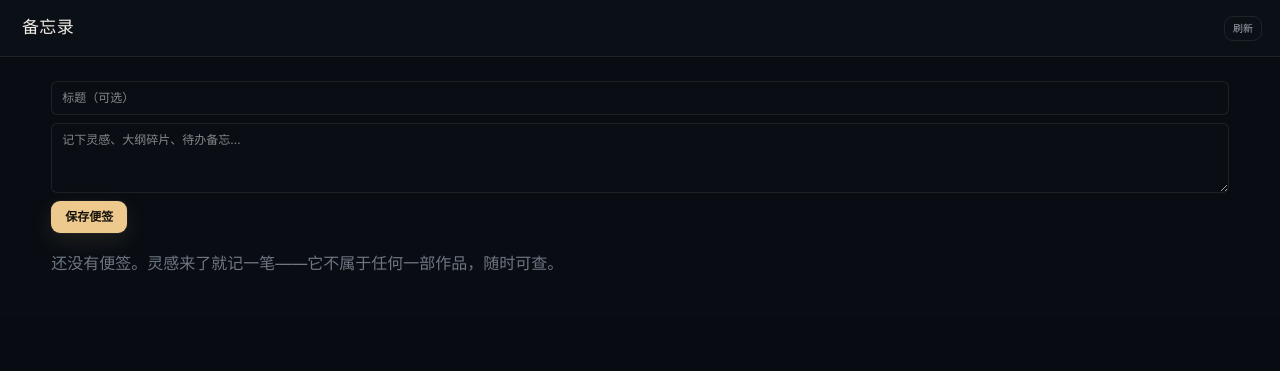
Test case: MemoView（备忘录） › 新建便签：空内容前端拦截；成功后刷新列表并携带 action 载荷
Expected: the element with test id "memo-create" is shown, [51,81,1229,233]
Step 1. Click the button with test id "memo-save-new" → [89, 217], box [51,201,127,233]
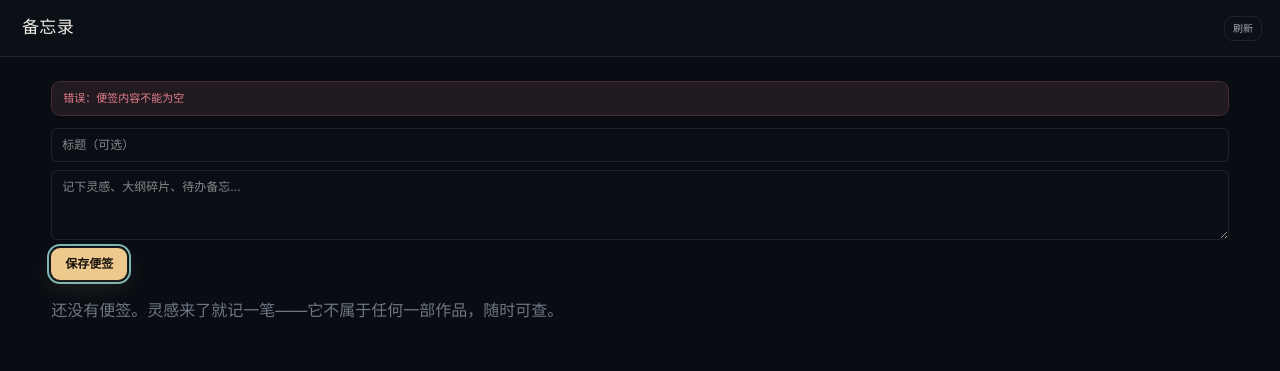
Expected: the message with test id "memo-error" shows "便签内容不能为空", [96,91,184,105]
Step 2. Type "标题" into the field with test id "memo-input-title" → [640, 144], box [51,128,1229,162]
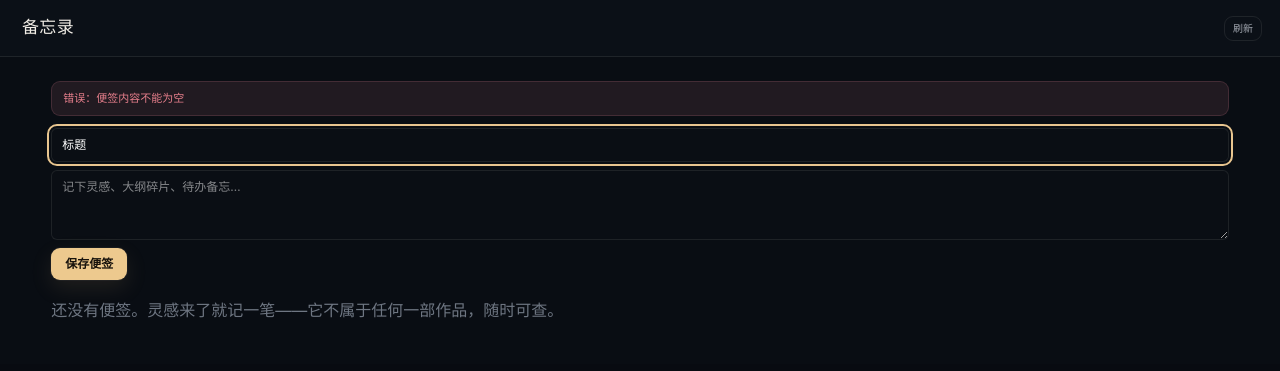
Step 3. Type "内容" into the text box with test id "memo-input-content" → [640, 204], box [51,170,1229,240]
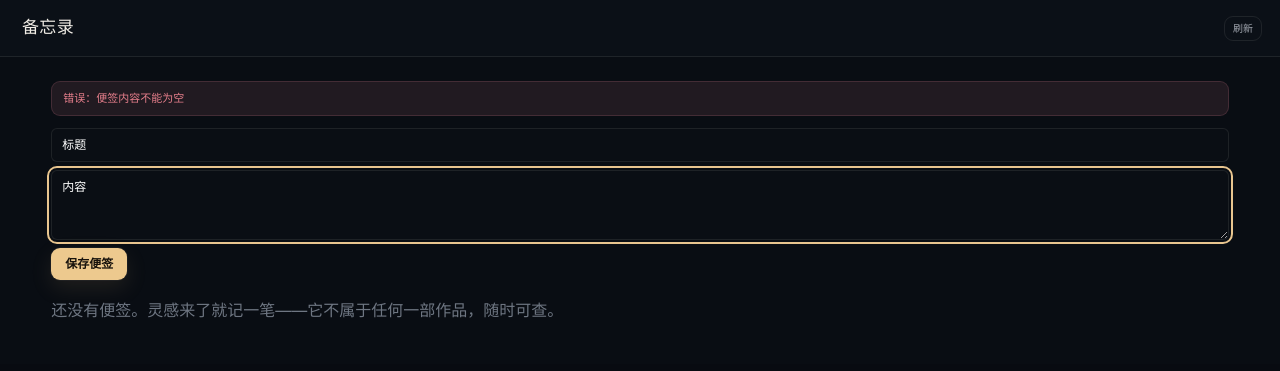
Step 4. Click the button with test id "memo-save-new" → [89, 264], box [51,248,127,280]
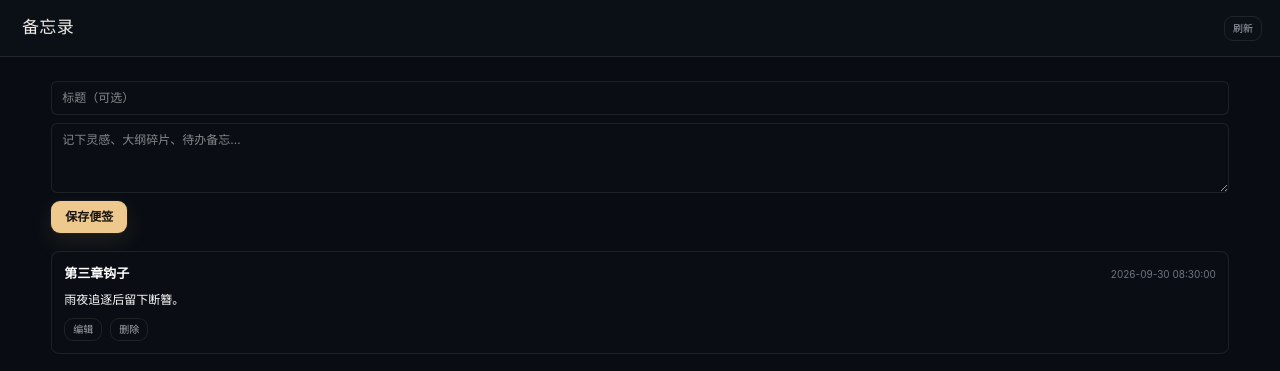
Expected: the element with test id "memo-item" is shown, [51,251,1229,354]
